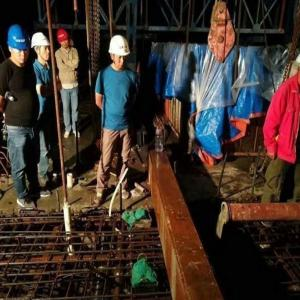blue: (7, 25, 31, 66)
red: (57, 28, 71, 51)
white: (109, 36, 132, 69), (32, 34, 52, 62)
